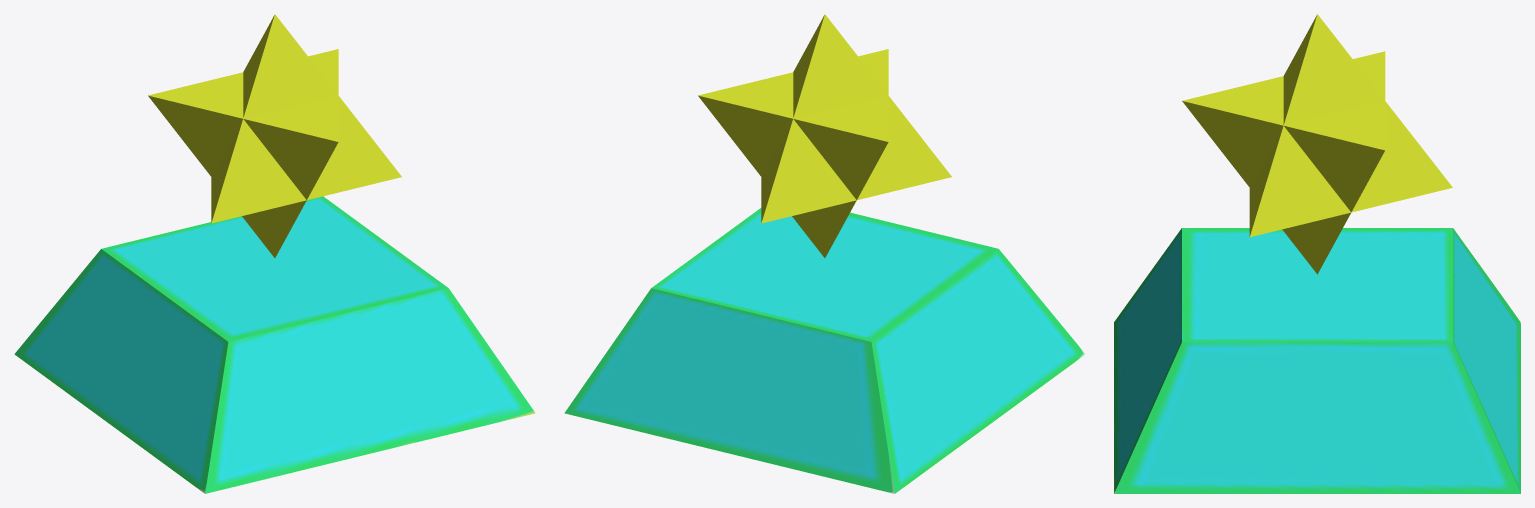
File: quantum_chest.obj
The picture shows the model from 3 angles, left to right: view 1: azimuth 30°, elevation 25°; view 2: azimuth 150°, elevation 25°; view 3: azimuth 270°, elevation 25°; orthographic projection. The views are drawn at different scales.
Parts seen in each view (by area): view 1: objMesh; view 2: objMesh; view 3: objMesh.
Part boxes in pixels (<box>): objMesh: <box>14,14,535,493</box>; objMesh: <box>564,14,1085,493</box>; objMesh: <box>1114,14,1520,493</box>.
Bounding box in the file's own units: 0.9354 × 1 × 0.9354.
